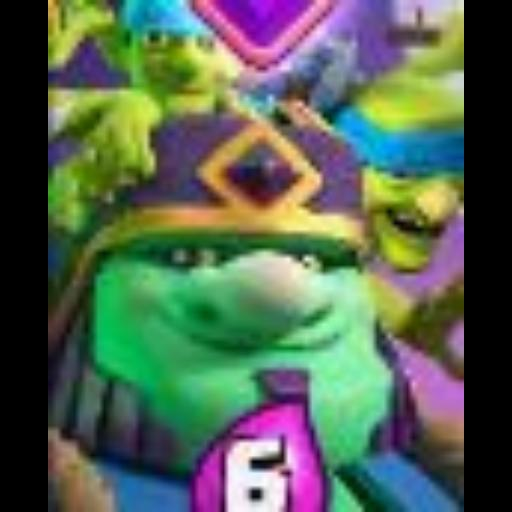goblin-giant-evo: (48, 0, 464, 512)
